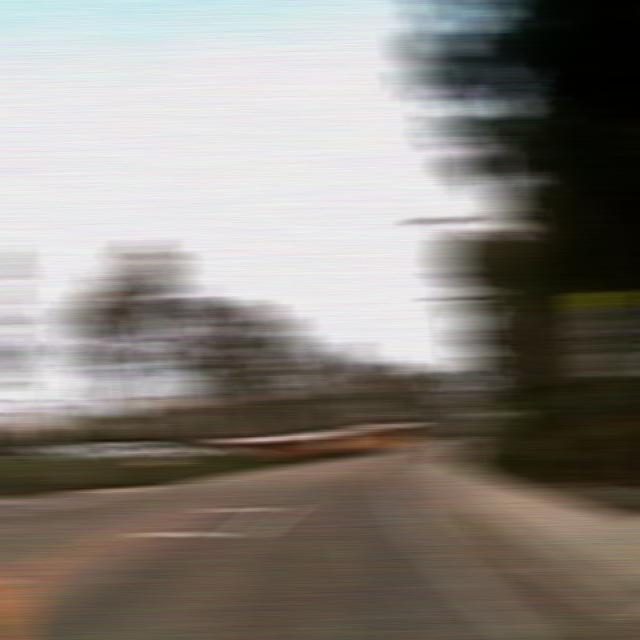speedLimit25: (573, 288, 631, 379)
